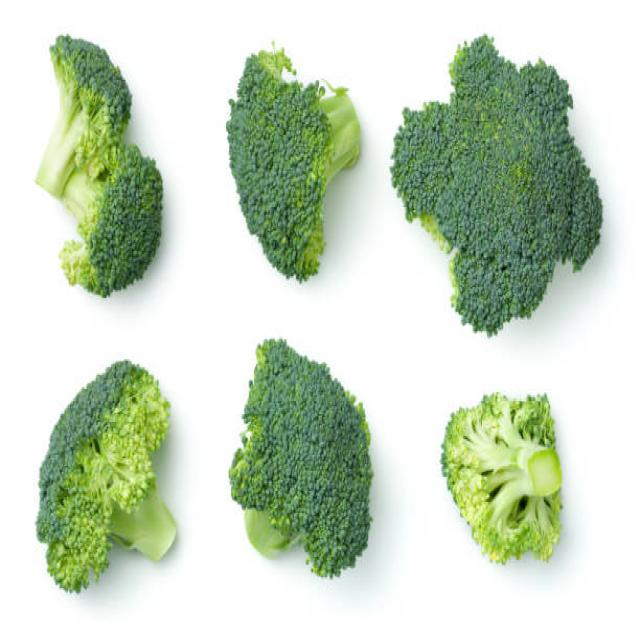broccoli: (398, 20, 604, 348), (229, 342, 414, 624), (22, 333, 199, 616), (221, 13, 372, 323), (23, 0, 170, 314), (427, 360, 582, 574)
